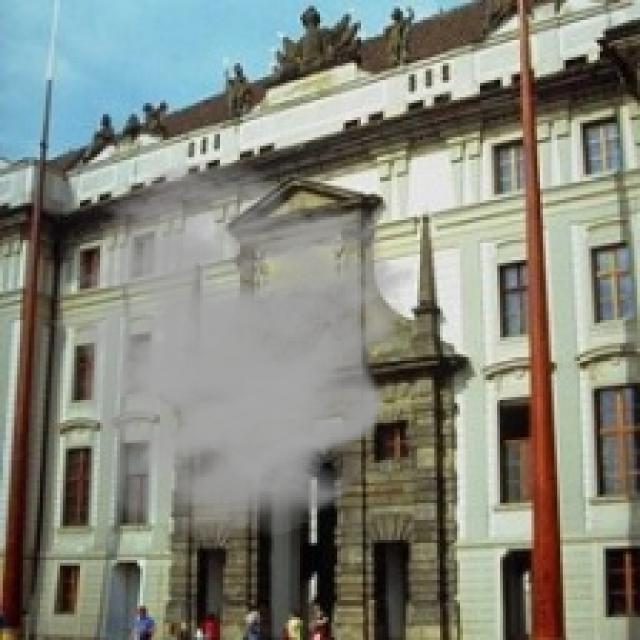Smoke: (32, 160, 417, 540)
